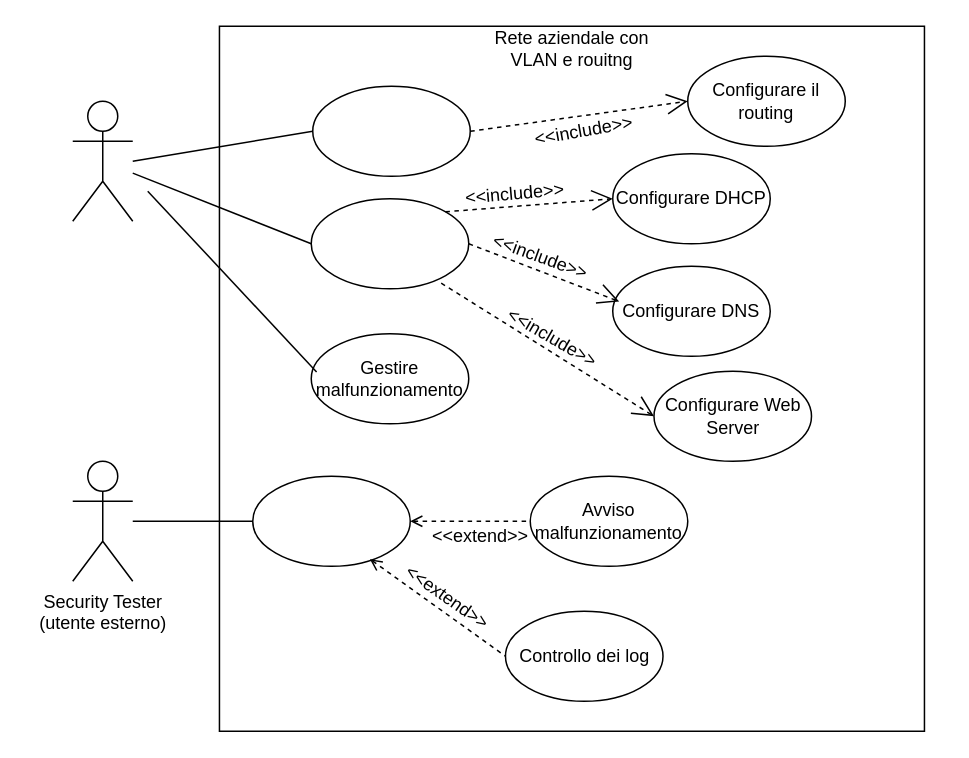
Some shapes in this 969 by 758 pixel diagram are drawn without their labels. Here are the shapes that lost their labels. From the top down, the centre of each, then its label:
(390,130): Configurare le VLAN
(102,160): Amministratore di rete
(389,243): Configurare i servizi di rete
(330,520): Verifica funzionamento
